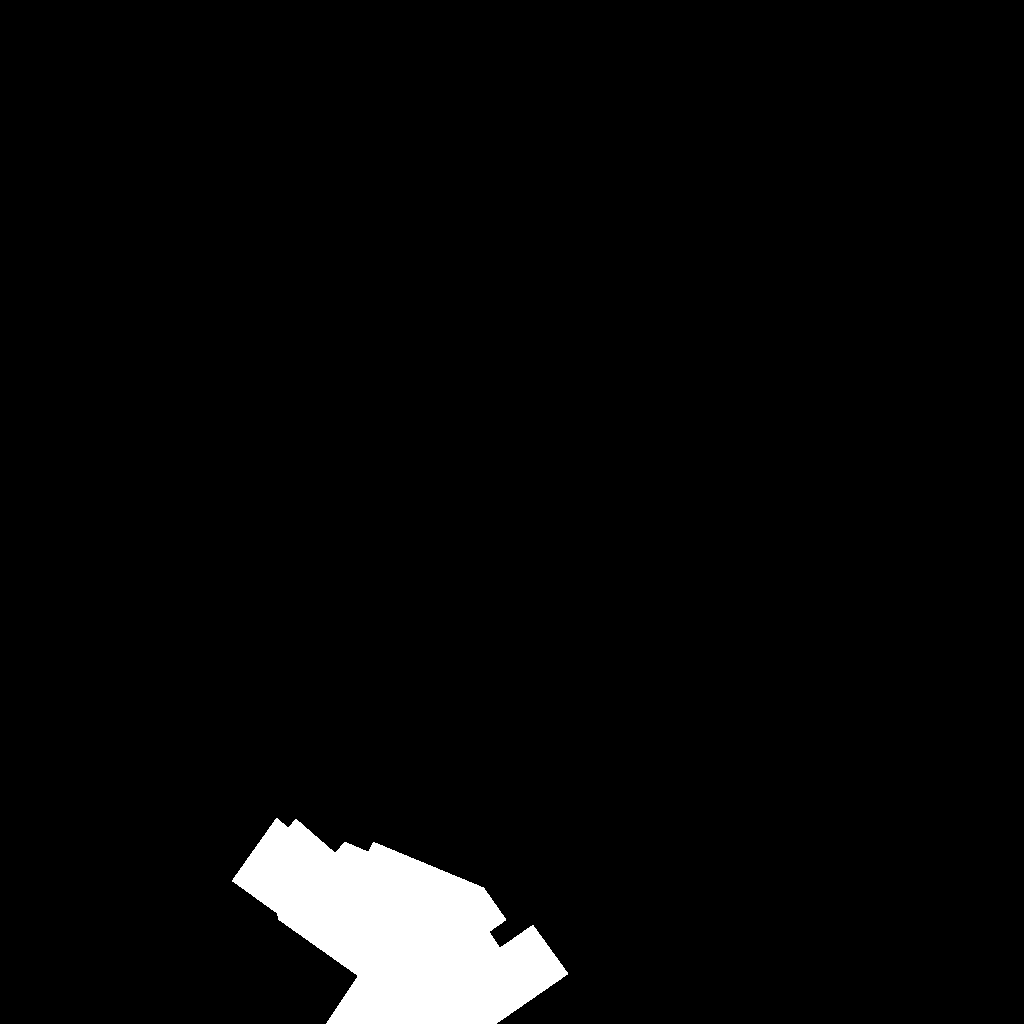building: (232, 818, 569, 1024)
